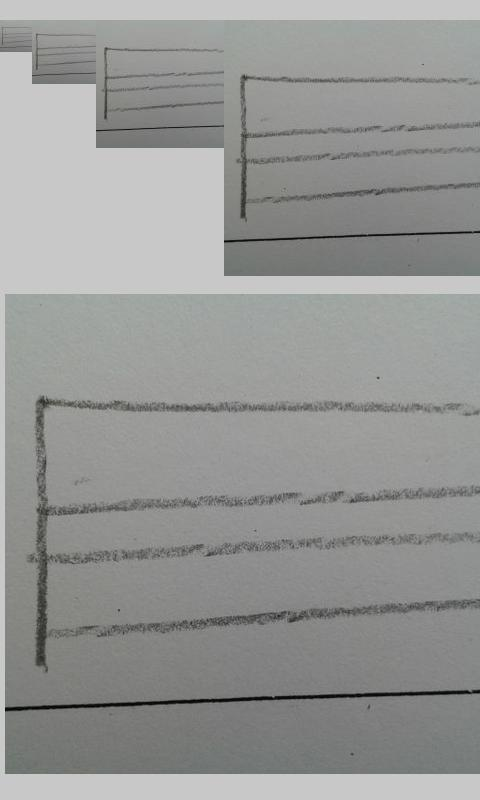list_view: (31, 396, 480, 642), (236, 74, 479, 211), (103, 47, 224, 113), (35, 33, 96, 67), (1, 26, 32, 44)
